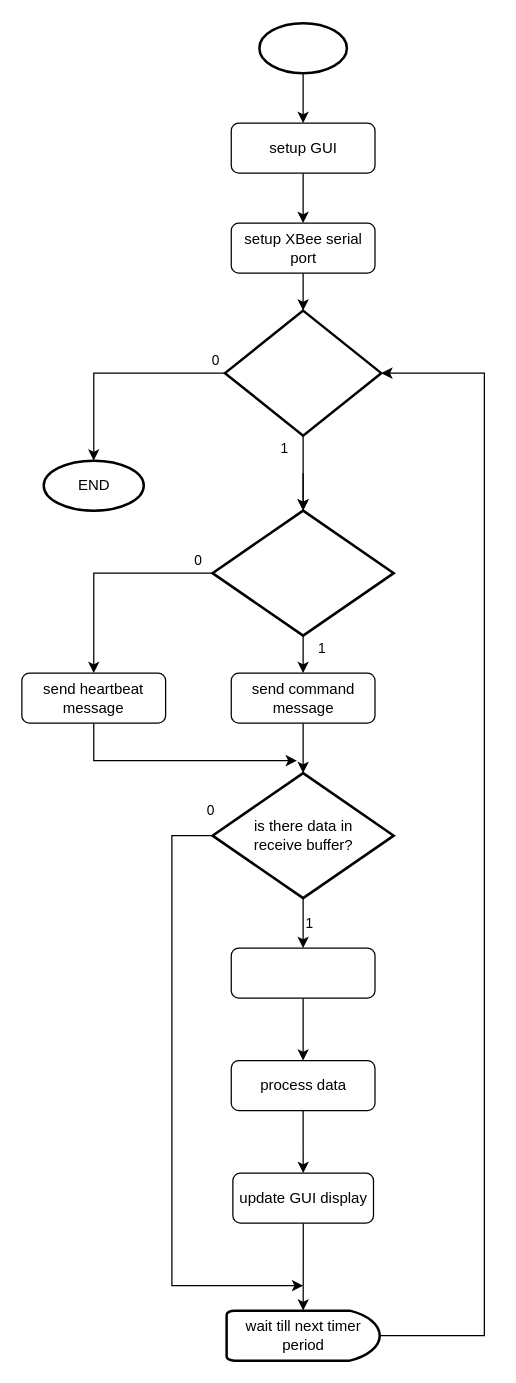
The diagram is 516 pixels wide and 1383 high, and some of its shapes have lost their labels. Here are the shapes that lost their labels. From the top down, the centre of each, then its label:
(303,47): START
(302,372): while GUI is Active
(302,572): is new command message available?
(302,972): read data
